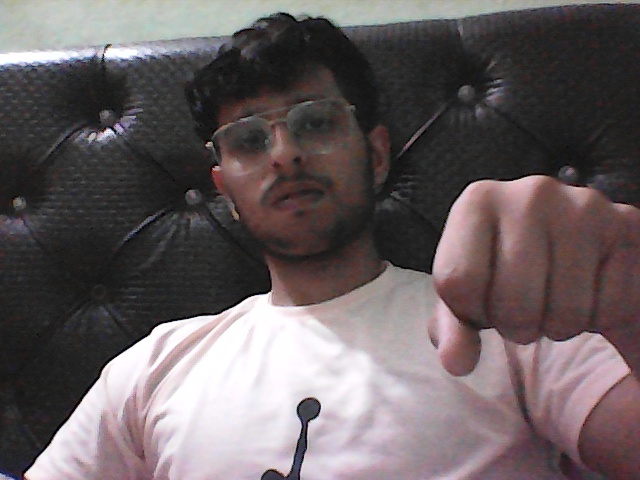yes: (396, 150, 640, 421)
